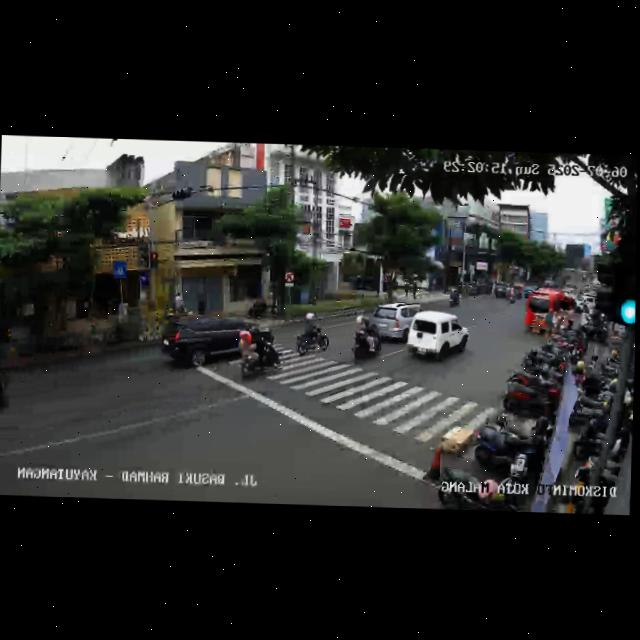car: (158, 311, 275, 372), (403, 308, 471, 363), (524, 288, 578, 338), (368, 301, 417, 344), (492, 281, 513, 299)
motorcycle: (236, 322, 283, 380), (294, 315, 330, 358), (351, 316, 383, 363), (447, 287, 460, 307)
